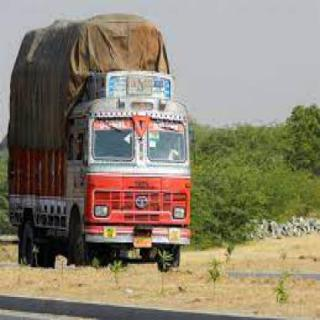Normal_vehicle: (4, 8, 202, 286)
